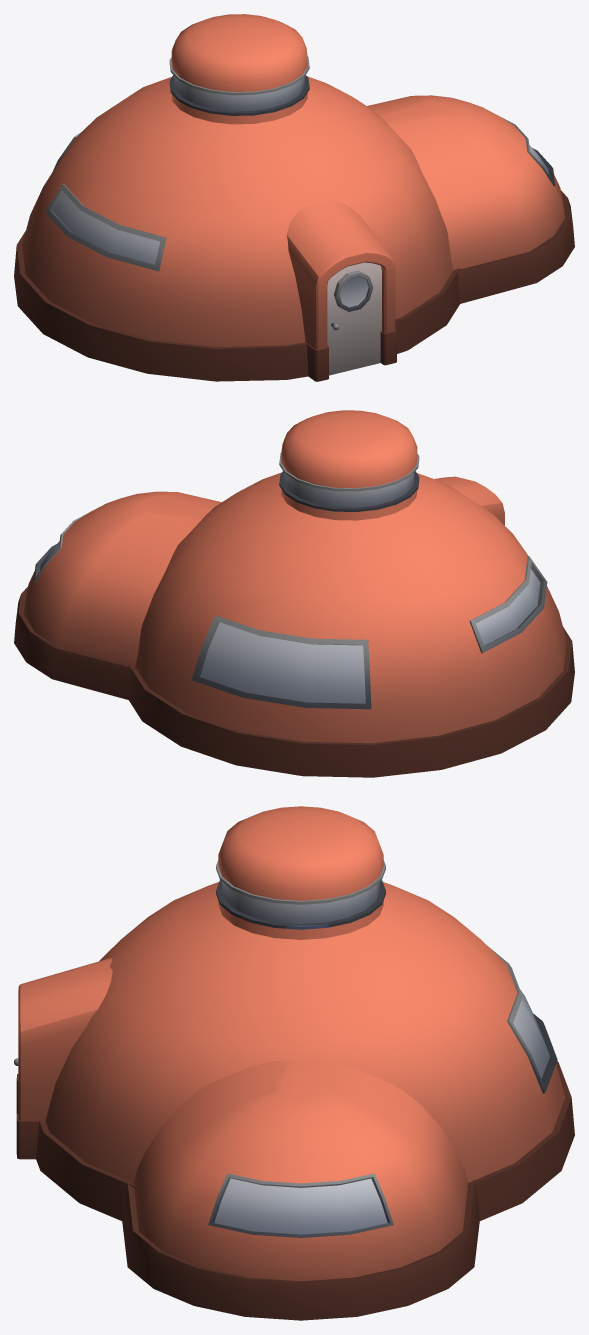
Rendered from SM_House_01.fbx.
3 views of the same model, one above another, from view 1: azimuth 30°, elevation 25°; view 2: azimuth 150°, elevation 25°; view 3: azimuth 270°, elevation 25° (orthographic). The views are drawn at different scales.
Visible parts, largest first — view 1: House_01; view 2: House_01; view 3: House_01.
Part boxes in pixels (<box>): House_01: <box>14,14,574,381</box>; House_01: <box>14,410,574,777</box>; House_01: <box>14,806,574,1320</box>.
Size of the model in its own units: 790 by 378 by 620.
